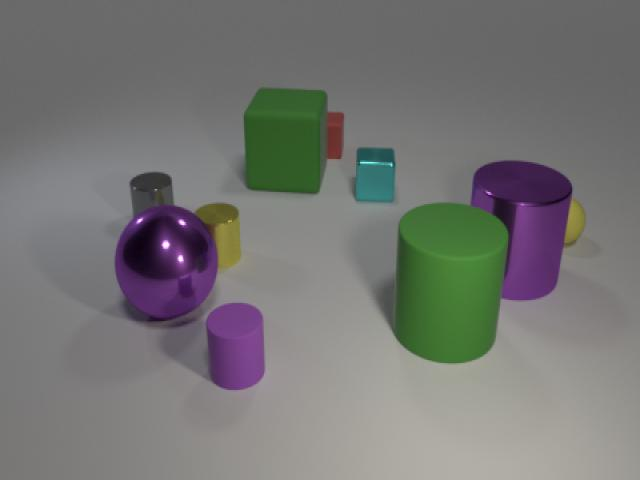cylinder: (390, 194, 509, 367), (468, 155, 577, 303), (204, 299, 268, 392), (191, 198, 245, 274), (128, 170, 177, 228)
round ball: (113, 196, 219, 321), (553, 191, 587, 251)
